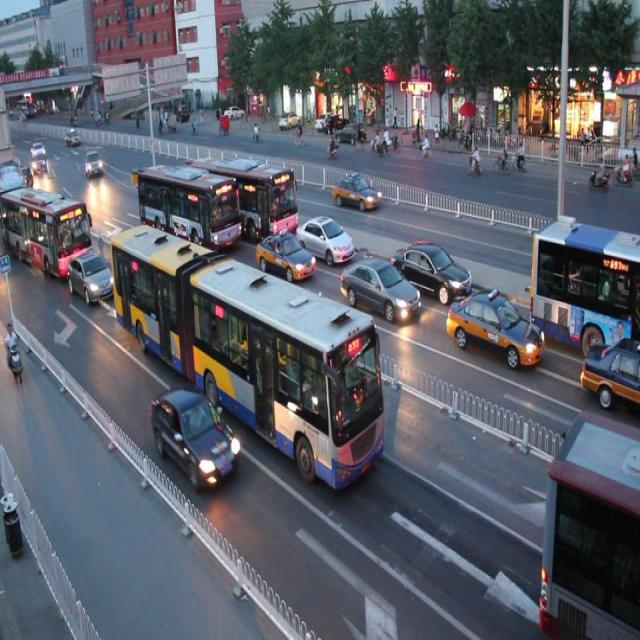car: (148, 381, 239, 492), (447, 283, 544, 372), (340, 252, 422, 328), (392, 239, 469, 305), (578, 337, 640, 405), (254, 230, 315, 284), (296, 215, 354, 264), (67, 248, 115, 304), (330, 169, 380, 215)
van: (112, 226, 384, 491), (540, 412, 640, 640), (528, 217, 640, 352), (191, 152, 298, 244), (138, 163, 240, 252), (0, 186, 90, 275)
